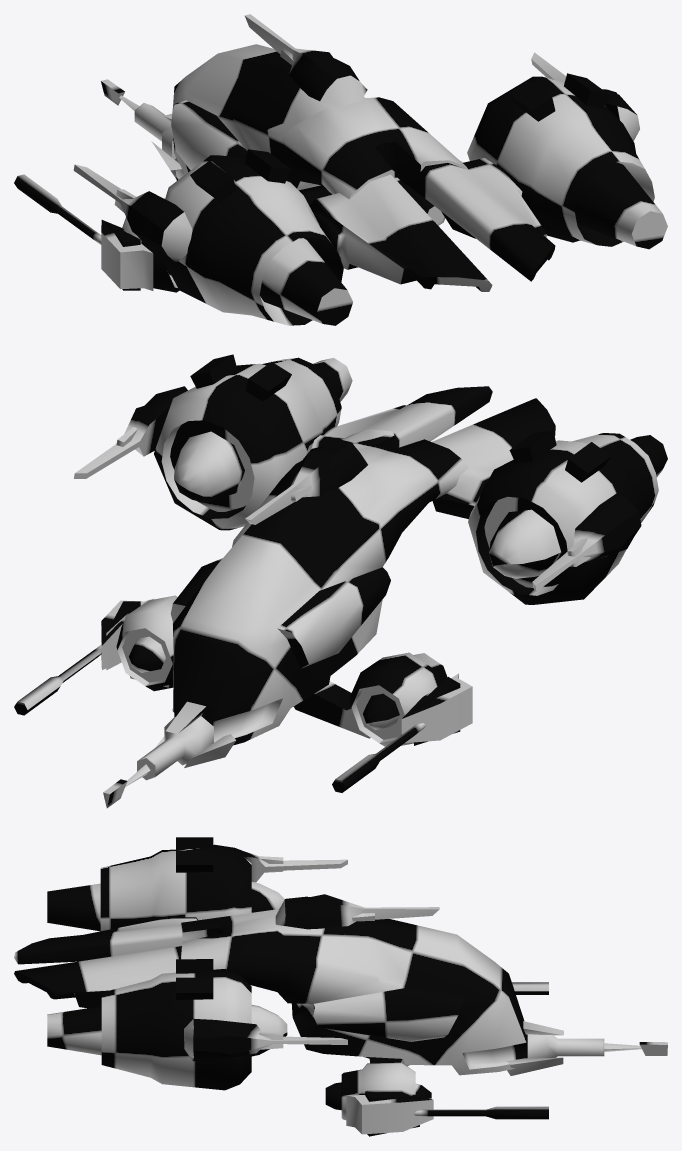
The model's file is yamato.obj.
3 renders of one model, top to bottom at view 1: azimuth 30°, elevation 25°; view 2: azimuth 150°, elevation 25°; view 3: azimuth 270°, elevation 25°, orthographic. The views are drawn at different scales.
Visible parts, largest first — view 1: main; view 2: main; view 3: main.
Boxes of the visible parts, <box> form: main: <box>14,14,667,325</box>; main: <box>14,354,667,808</box>; main: <box>14,837,667,1136</box>.
Bounding box in the file's own units: 76.74 × 34.84 × 111.
Materials: 1 (1 with a texture image).
